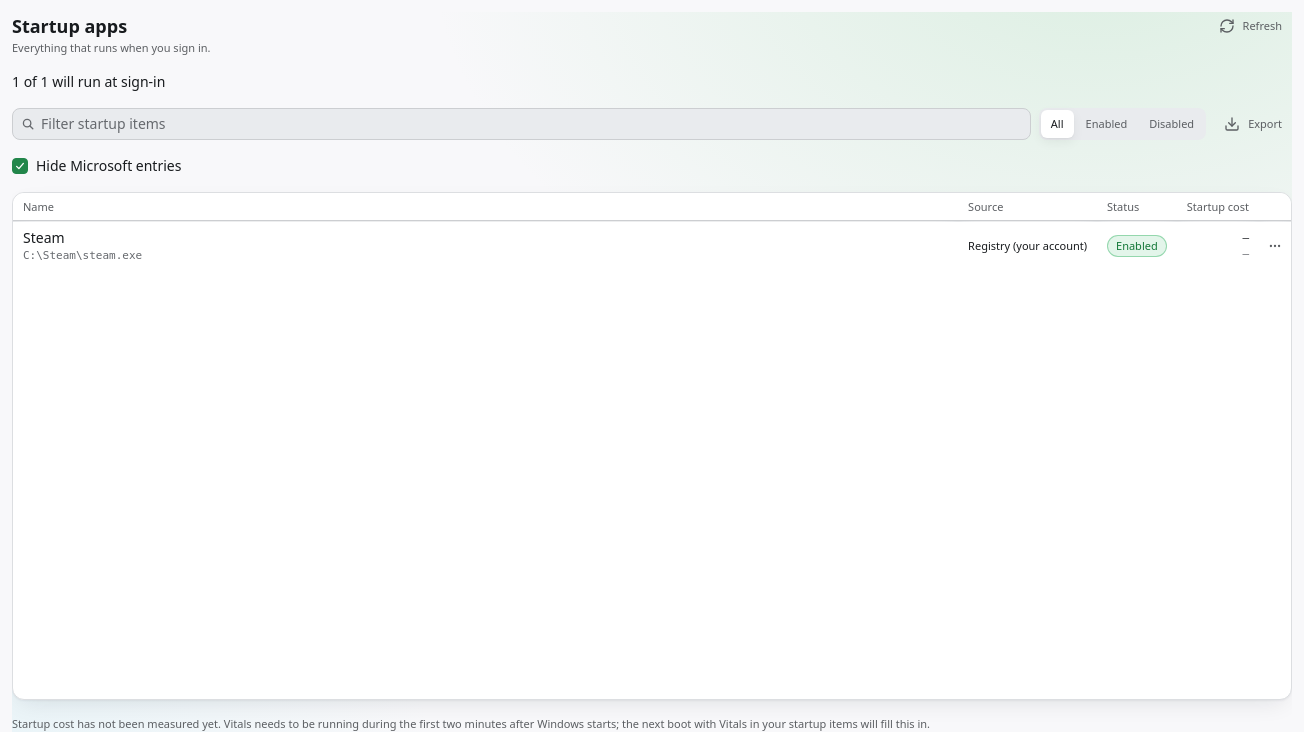
Test case: StartupScreen › keeps the last good list when a refresh fails
Expected: the text "Steam" is shown, left=23, top=228, right=65, bottom=247
Click the button "Refresh": (1250,26) left=1209, top=12, right=1292, bottom=40
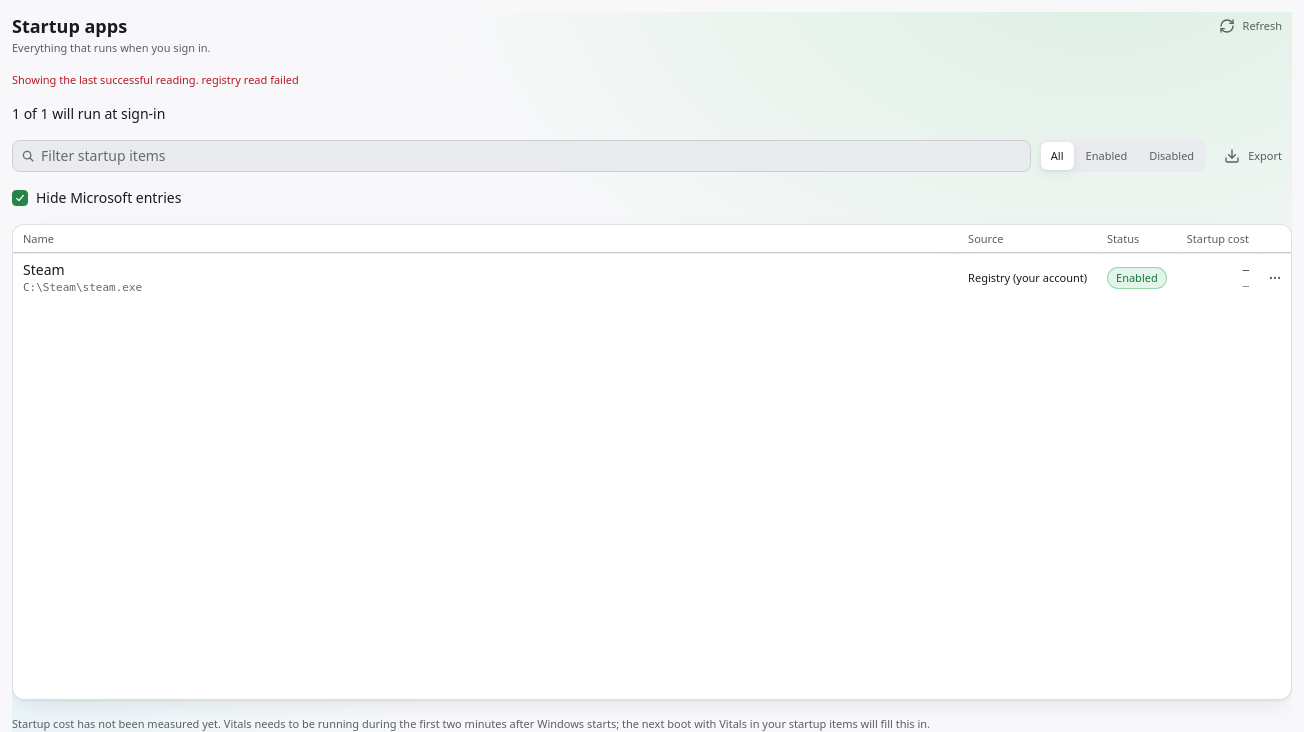
Expected: the text "Steam" is shown, left=23, top=260, right=65, bottom=279
Expected: the message "Showing the last successful reading. registry read failed" is shown, left=12, top=72, right=299, bottom=87
